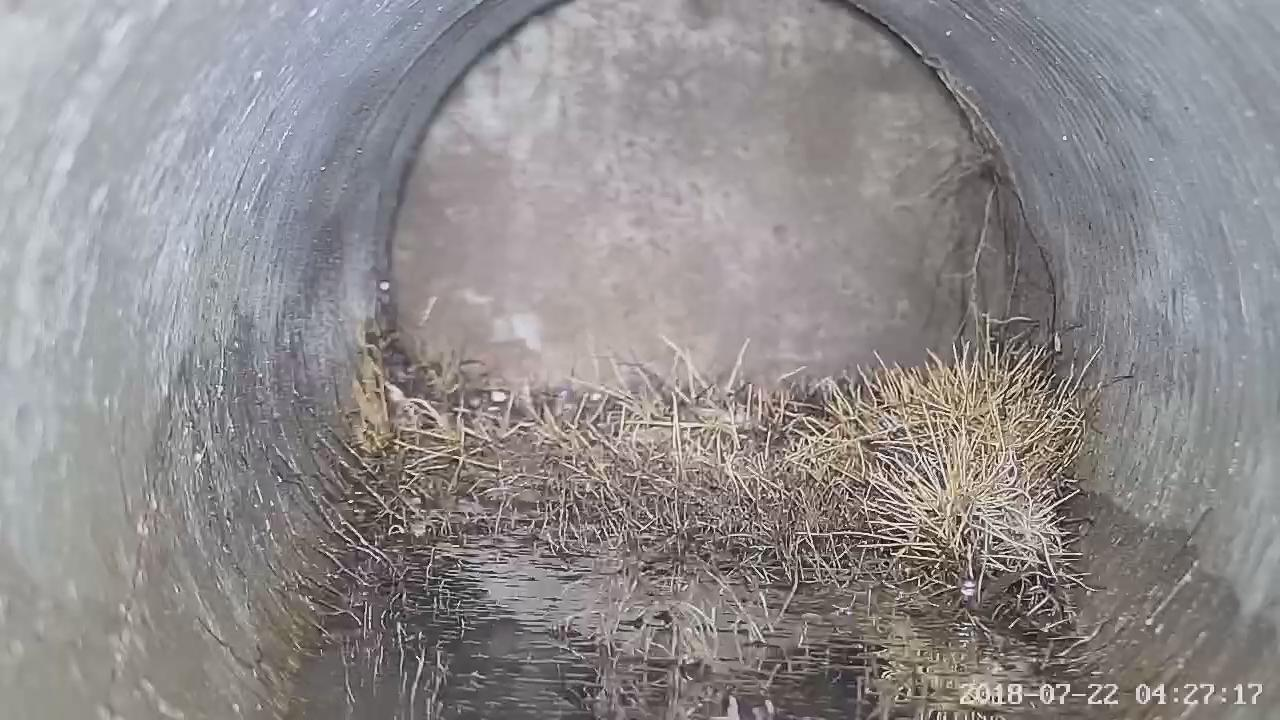SG: (342, 183, 1086, 645)
